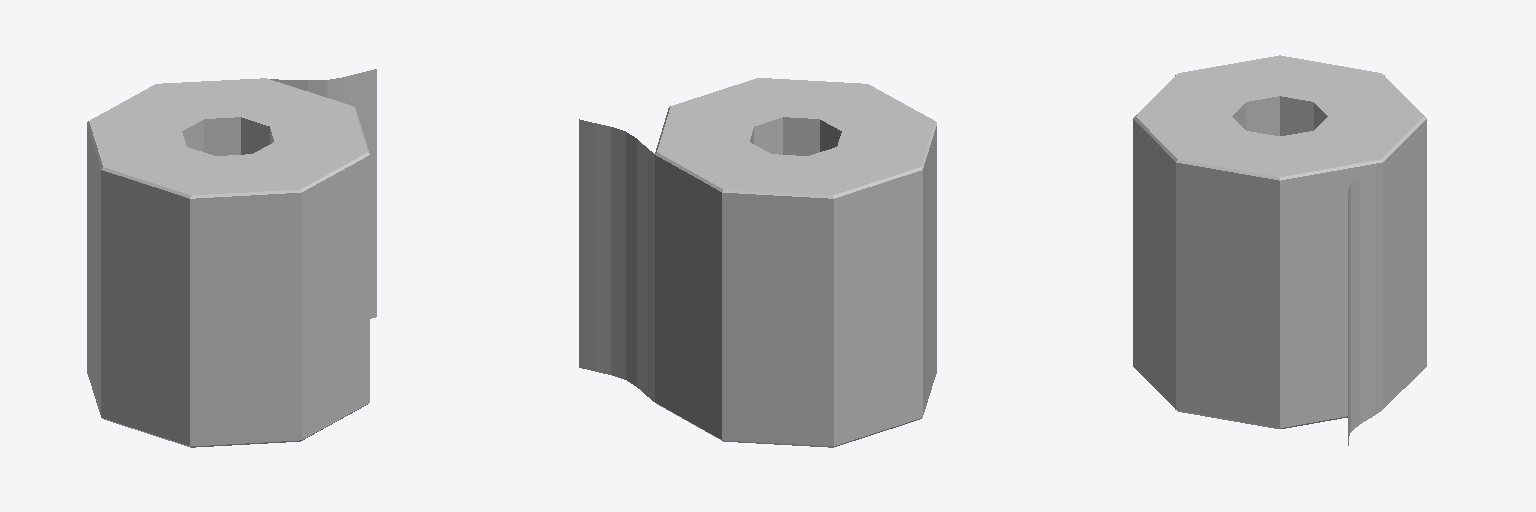
3 views of the same model, side by side, from view 1: azimuth 30°, elevation 25°; view 2: azimuth 150°, elevation 25°; view 3: azimuth 270°, elevation 25° (orthographic).
Visible parts, largest first — view 1: TP; view 2: TP; view 3: TP.
Part boxes in pixels (bbox=[...]): TP: bbox=[87, 69, 376, 447]; TP: bbox=[579, 78, 936, 447]; TP: bbox=[1133, 55, 1426, 445].
Size of the model in its own units: 0.319 by 0.2483 by 0.262.